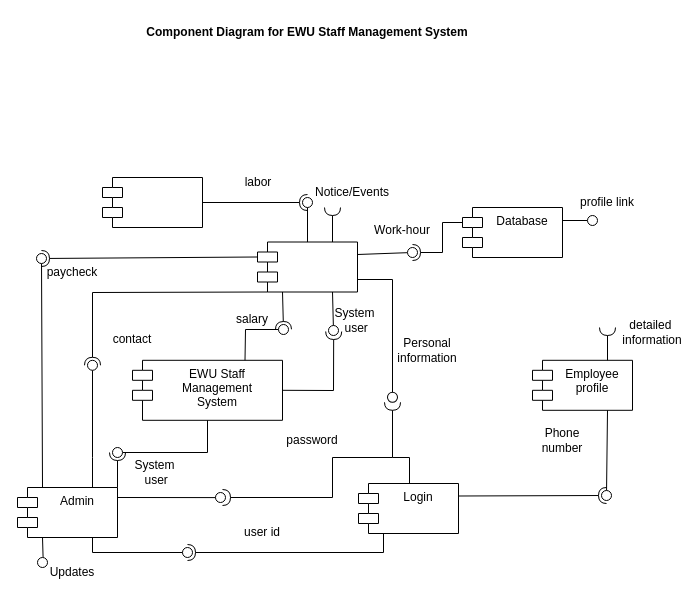
Image size: 700x604. Some labels were removed from this diagram. Each missing label, with the centre of its shape:
Employee: the point at 307,266
Organization: the point at 152,202
